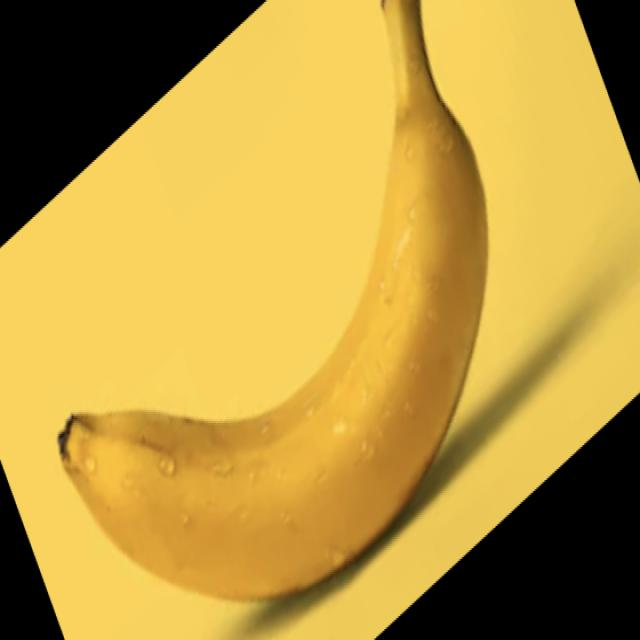god quality banana: (58, 0, 488, 599)
